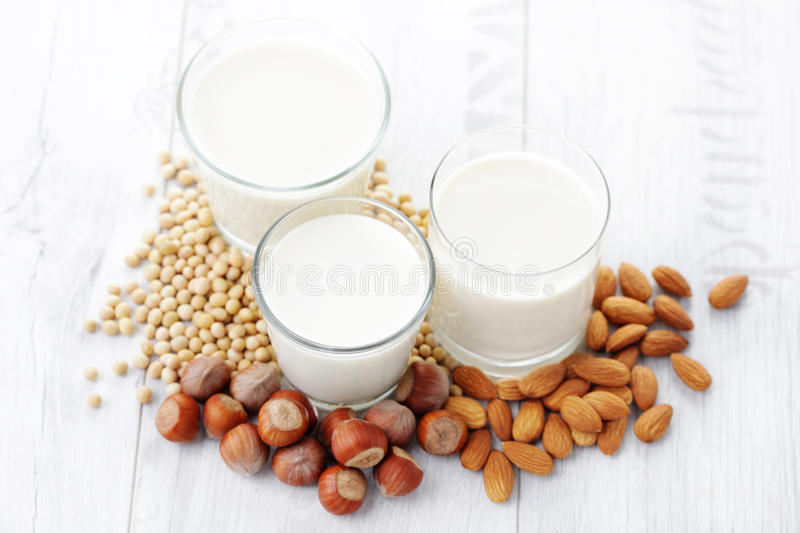glass of milk: (188, 54, 608, 382)
